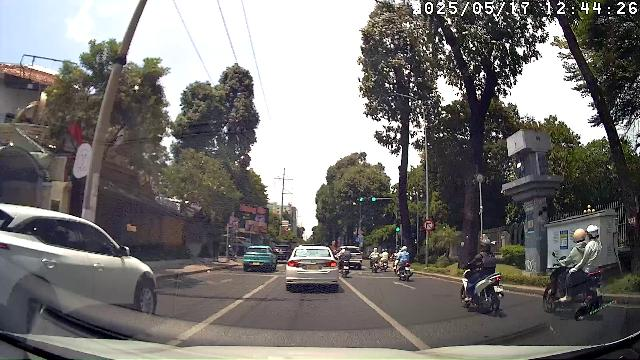123b-cam-re-phai: (422, 219, 433, 231)
